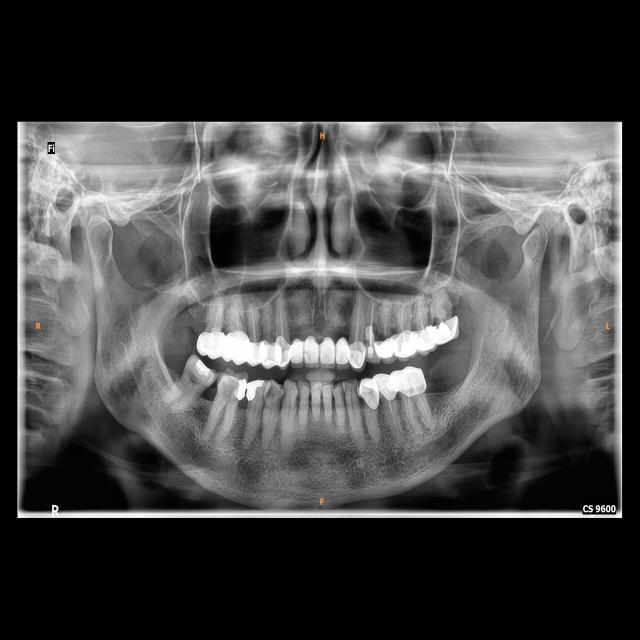dentin-curugu: (266, 380, 282, 401)
dolgu: (222, 372, 246, 408), (244, 376, 266, 406), (190, 357, 212, 384)
kanal-tedavisi: (406, 393, 433, 426), (247, 305, 259, 340), (398, 303, 413, 331), (276, 305, 288, 339), (386, 402, 399, 433), (354, 307, 364, 346), (366, 306, 374, 346), (382, 306, 390, 336), (234, 302, 242, 330)
kaplama: (196, 324, 225, 358), (396, 366, 426, 395), (225, 329, 248, 365), (375, 373, 397, 406), (360, 376, 380, 412), (393, 331, 419, 357), (436, 317, 460, 343), (263, 339, 282, 370), (272, 336, 292, 364), (416, 325, 436, 353), (248, 339, 266, 368), (317, 338, 336, 364), (303, 336, 319, 366), (376, 336, 395, 361), (350, 341, 365, 367), (335, 338, 349, 365), (290, 338, 304, 363)
